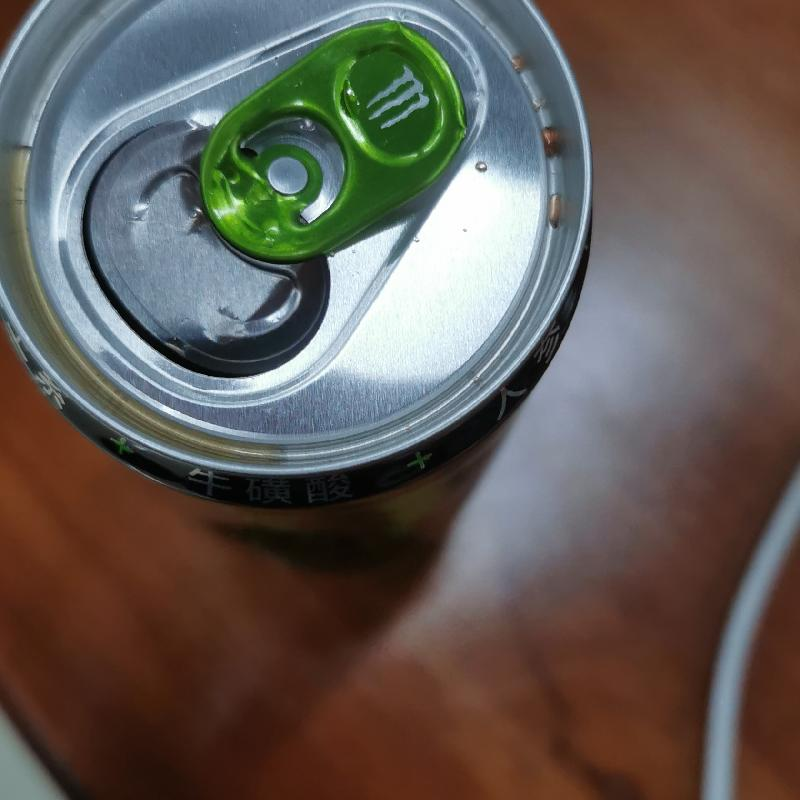cans: (3, 1, 586, 516)
